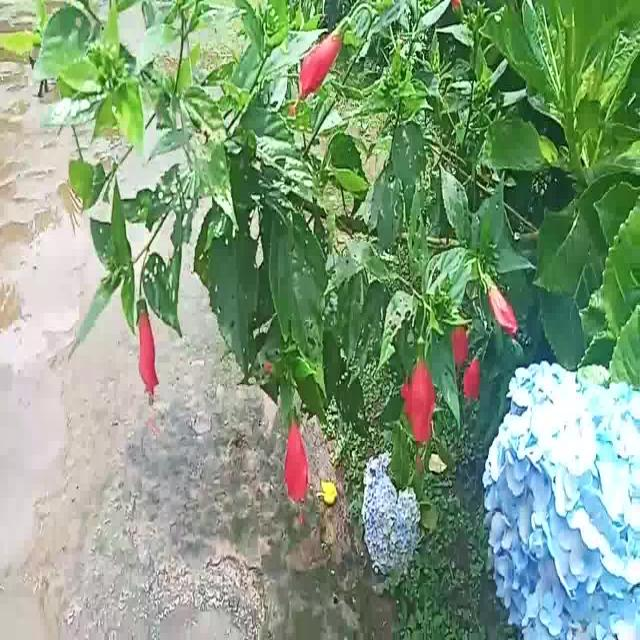Flower: (487, 354, 640, 640), (358, 451, 426, 584), (297, 10, 353, 103), (129, 291, 162, 413), (401, 353, 439, 451), (480, 275, 527, 350), (280, 405, 313, 511)
